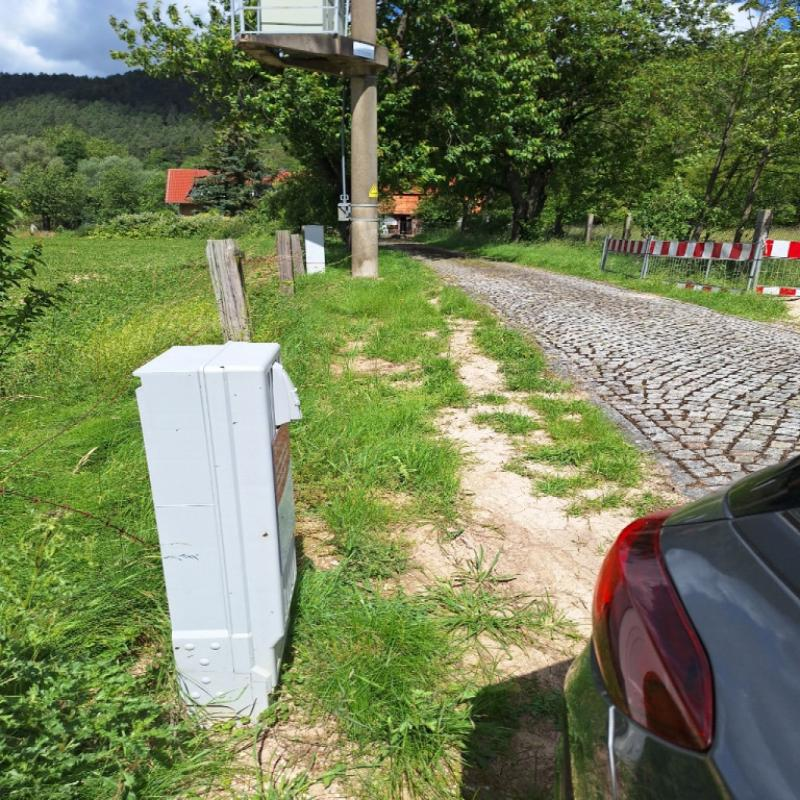NT-Gehause: (134, 341, 305, 708)
